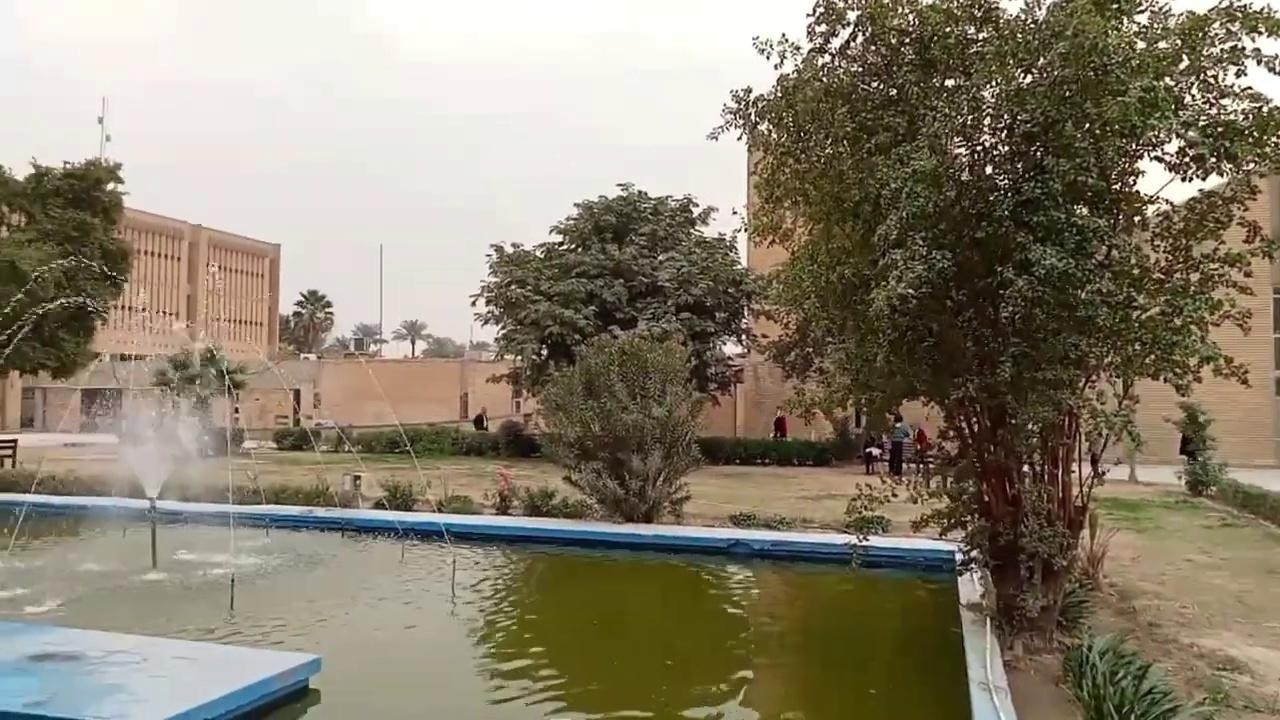fountain: (0, 494, 1016, 717)
person: (888, 414, 909, 477), (913, 425, 929, 475), (863, 430, 880, 474), (771, 406, 787, 440), (472, 406, 488, 431)
tree: (705, 0, 1278, 663), (468, 180, 763, 436), (535, 326, 708, 523), (0, 152, 133, 382), (148, 341, 274, 453), (1053, 630, 1184, 718), (1161, 398, 1215, 463), (289, 287, 334, 353), (390, 318, 431, 357), (349, 320, 382, 352)
